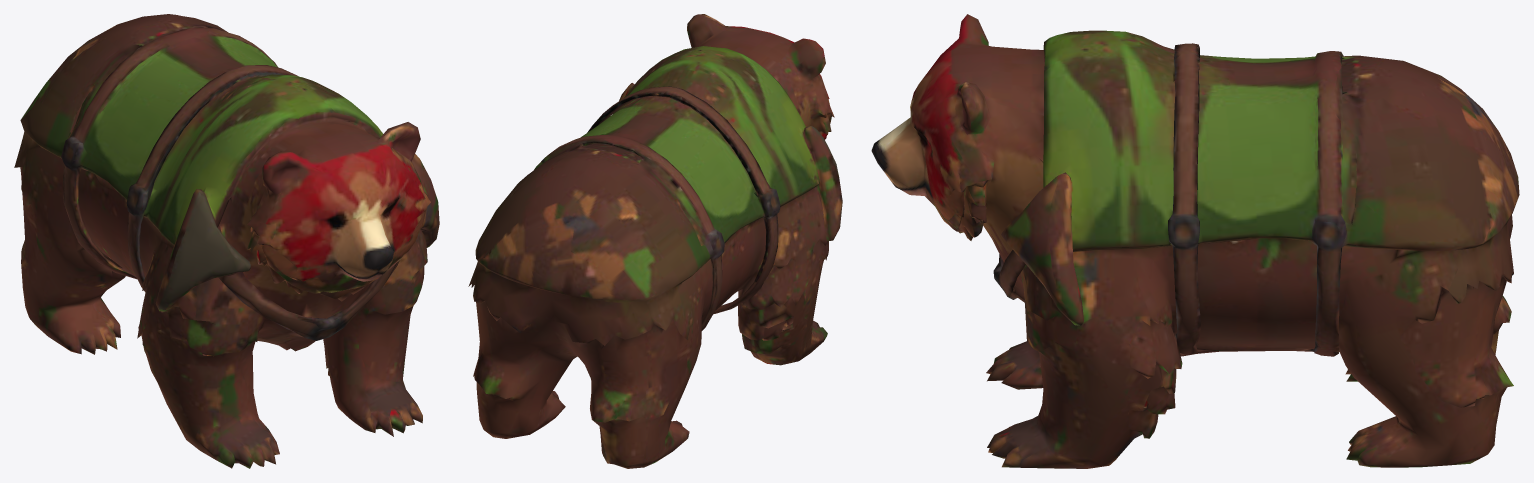
Rendered from war_bear_ready.glb.
The picture shows the model from 3 angles, left to right: view 1: azimuth 30°, elevation 25°; view 2: azimuth 150°, elevation 25°; view 3: azimuth 270°, elevation 25°; orthographic projection. The views are drawn at different scales.
Parts seen in each view (by area): view 1: world; view 2: world; view 3: world.
Part boxes in pixels (x1,y1,x2,y2): world: [14, 14, 439, 468]; world: [468, 14, 842, 468]; world: [871, 14, 1519, 468].
Size of the model in its own units: 0.5572 by 0.6415 by 0.9913.
1 material, 1 textured.
